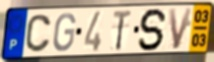4: (83, 9, 103, 54)
C: (24, 13, 53, 53)
G: (51, 12, 77, 53)
S: (137, 7, 169, 52)
T: (111, 9, 133, 53)
V: (167, 6, 195, 51)
